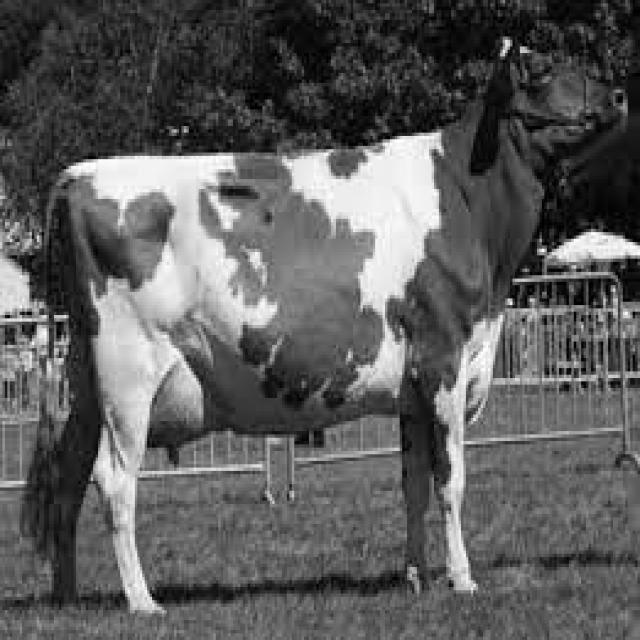Cow: (17, 30, 625, 617)
